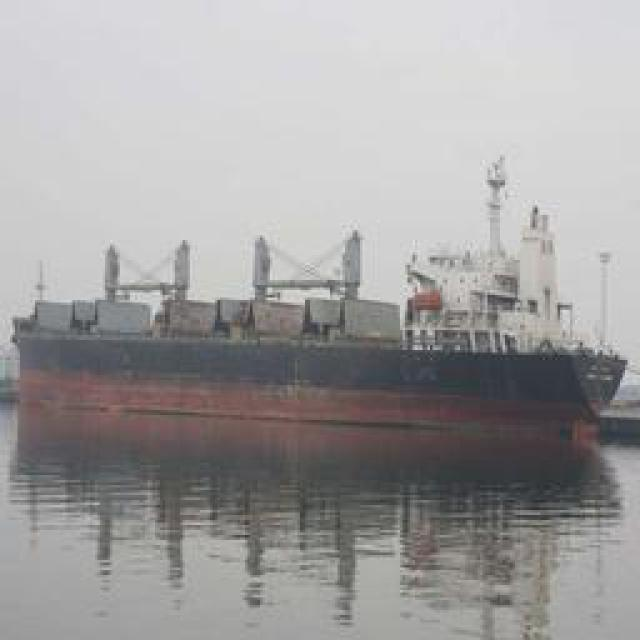Ship: (18, 238, 626, 426)
